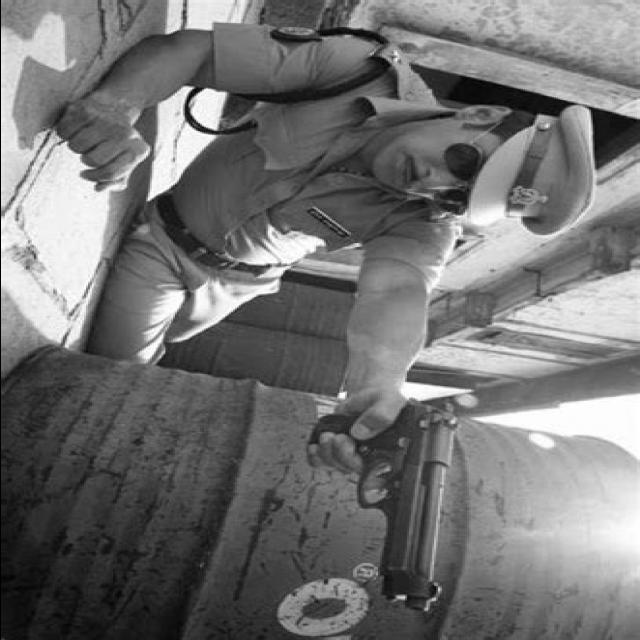weapons: (290, 388, 472, 624)
